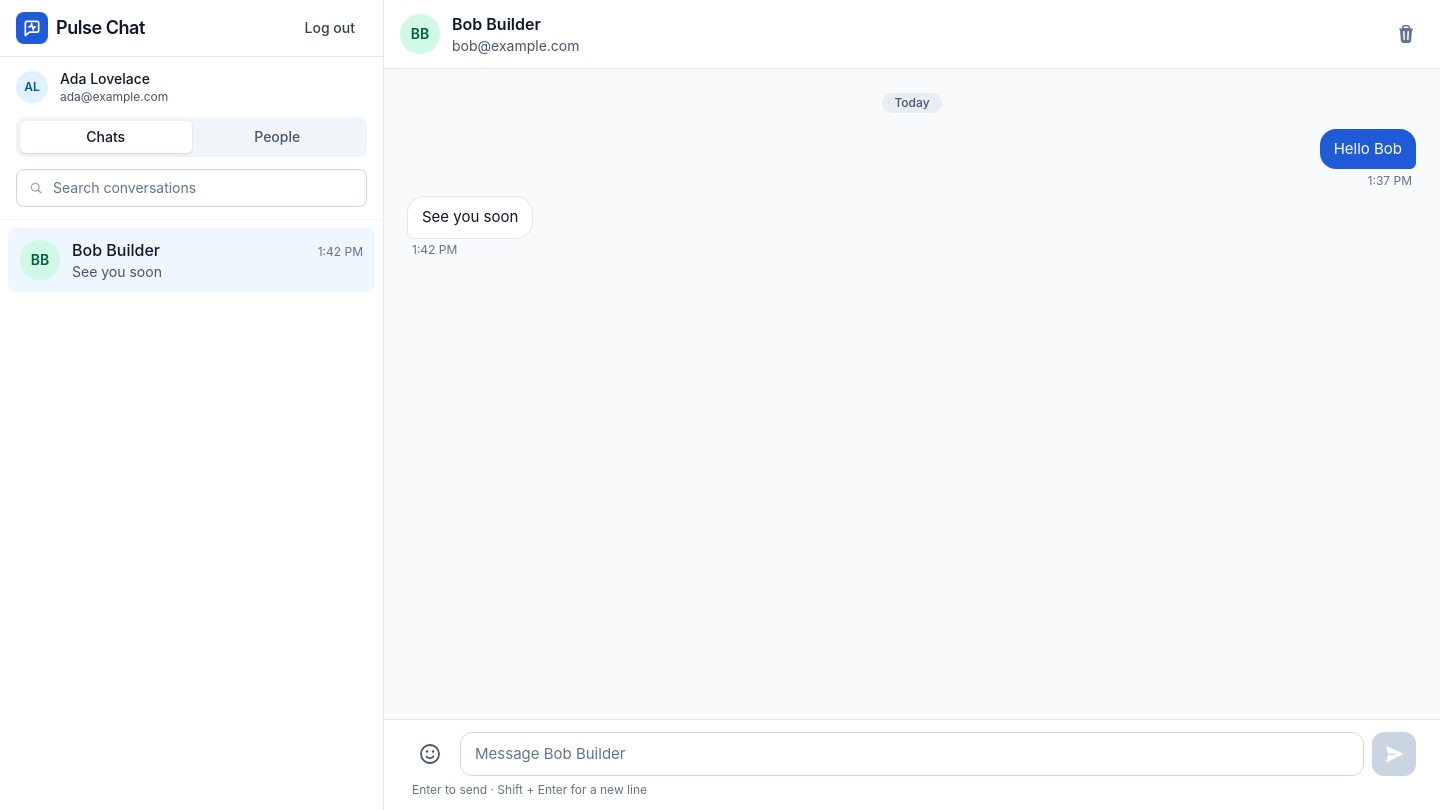
Test case: deleting › deletes the chat from my list after confirming
expect the heading "Bob Builder" is shown: met, box [452,14,541,34]
expect the button "Hello Bob" is shown: met, box [1320,129,1416,169]
Click the button named "Delete chat".
click(1406, 34)  # box [1388,16,1424,52]
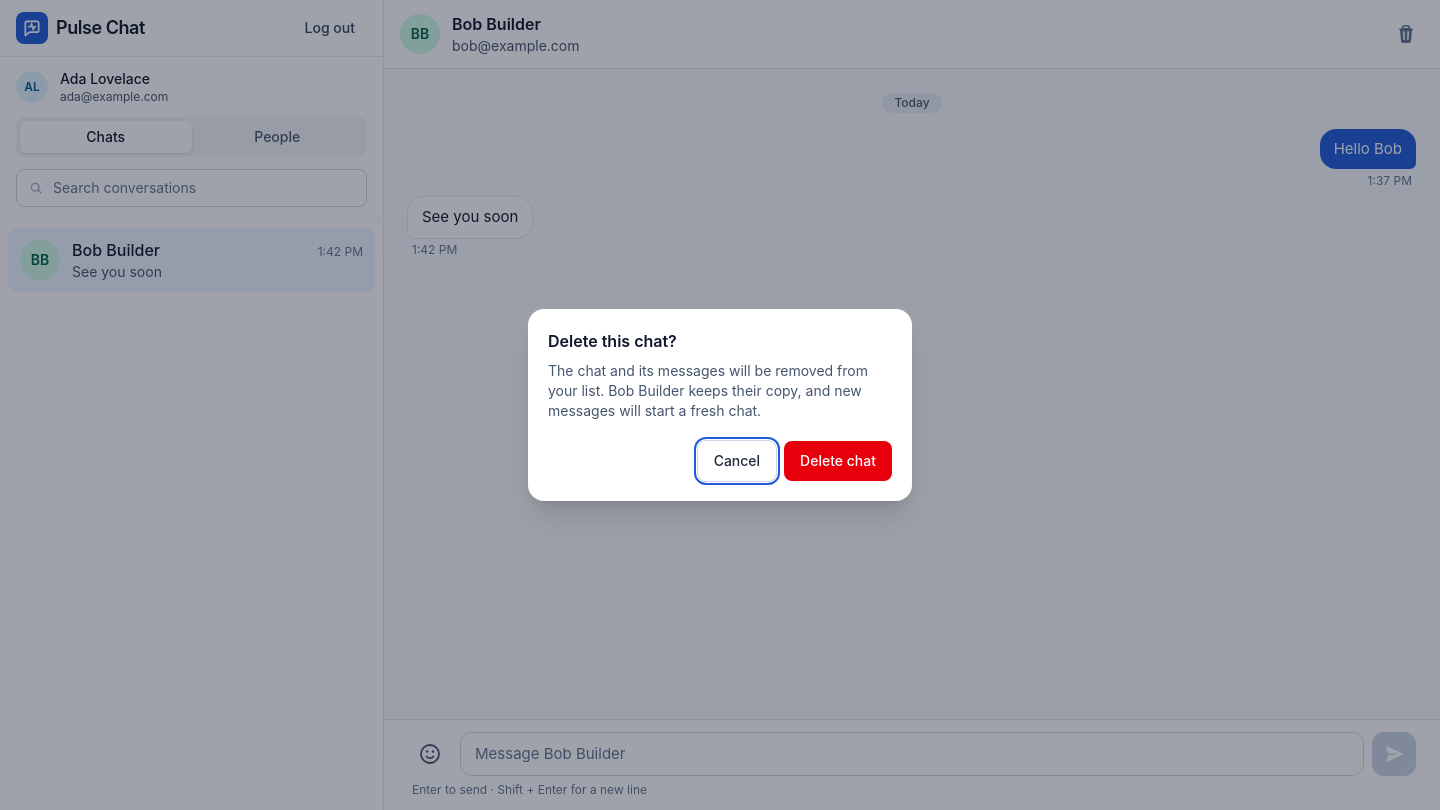
Click the button "Delete chat".
click(838, 461)  # box [784,441,892,481]
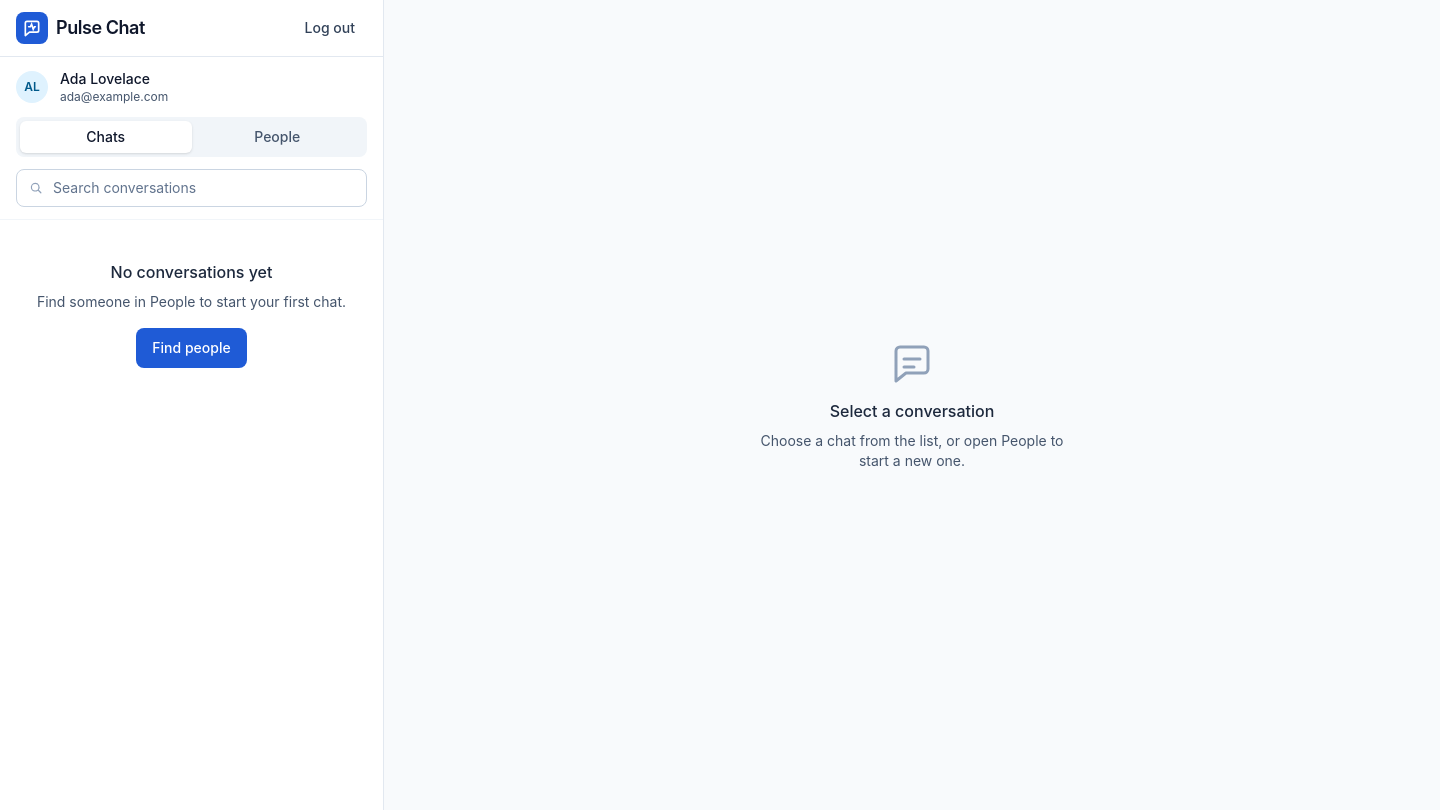
expect the text "Select a conversation" is shown: met, box [830,399,994,423]
expect the text "No conversations yet" is shown: met, box [111,260,272,284]
